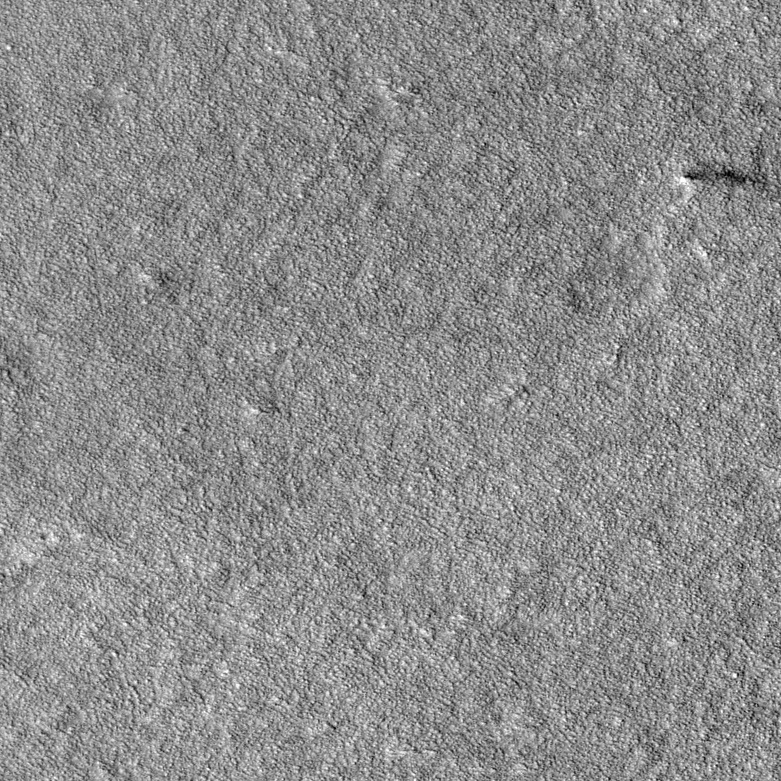dust_devil: (677, 159, 776, 204)
